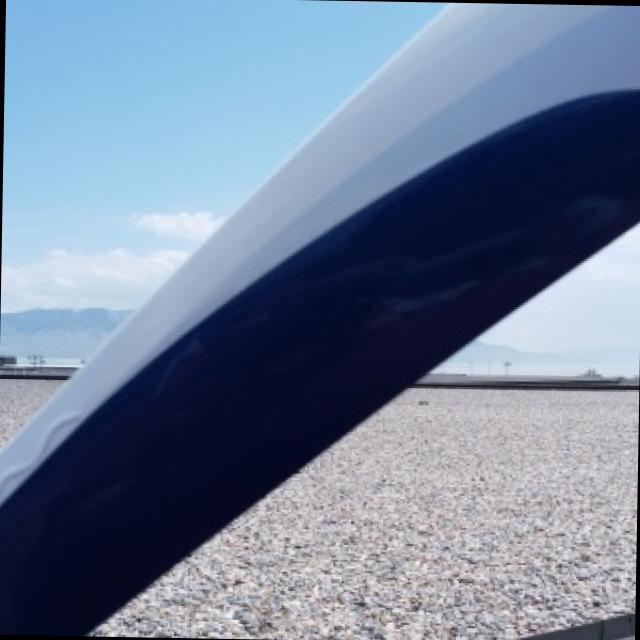healthy: (0, 2, 640, 634)
